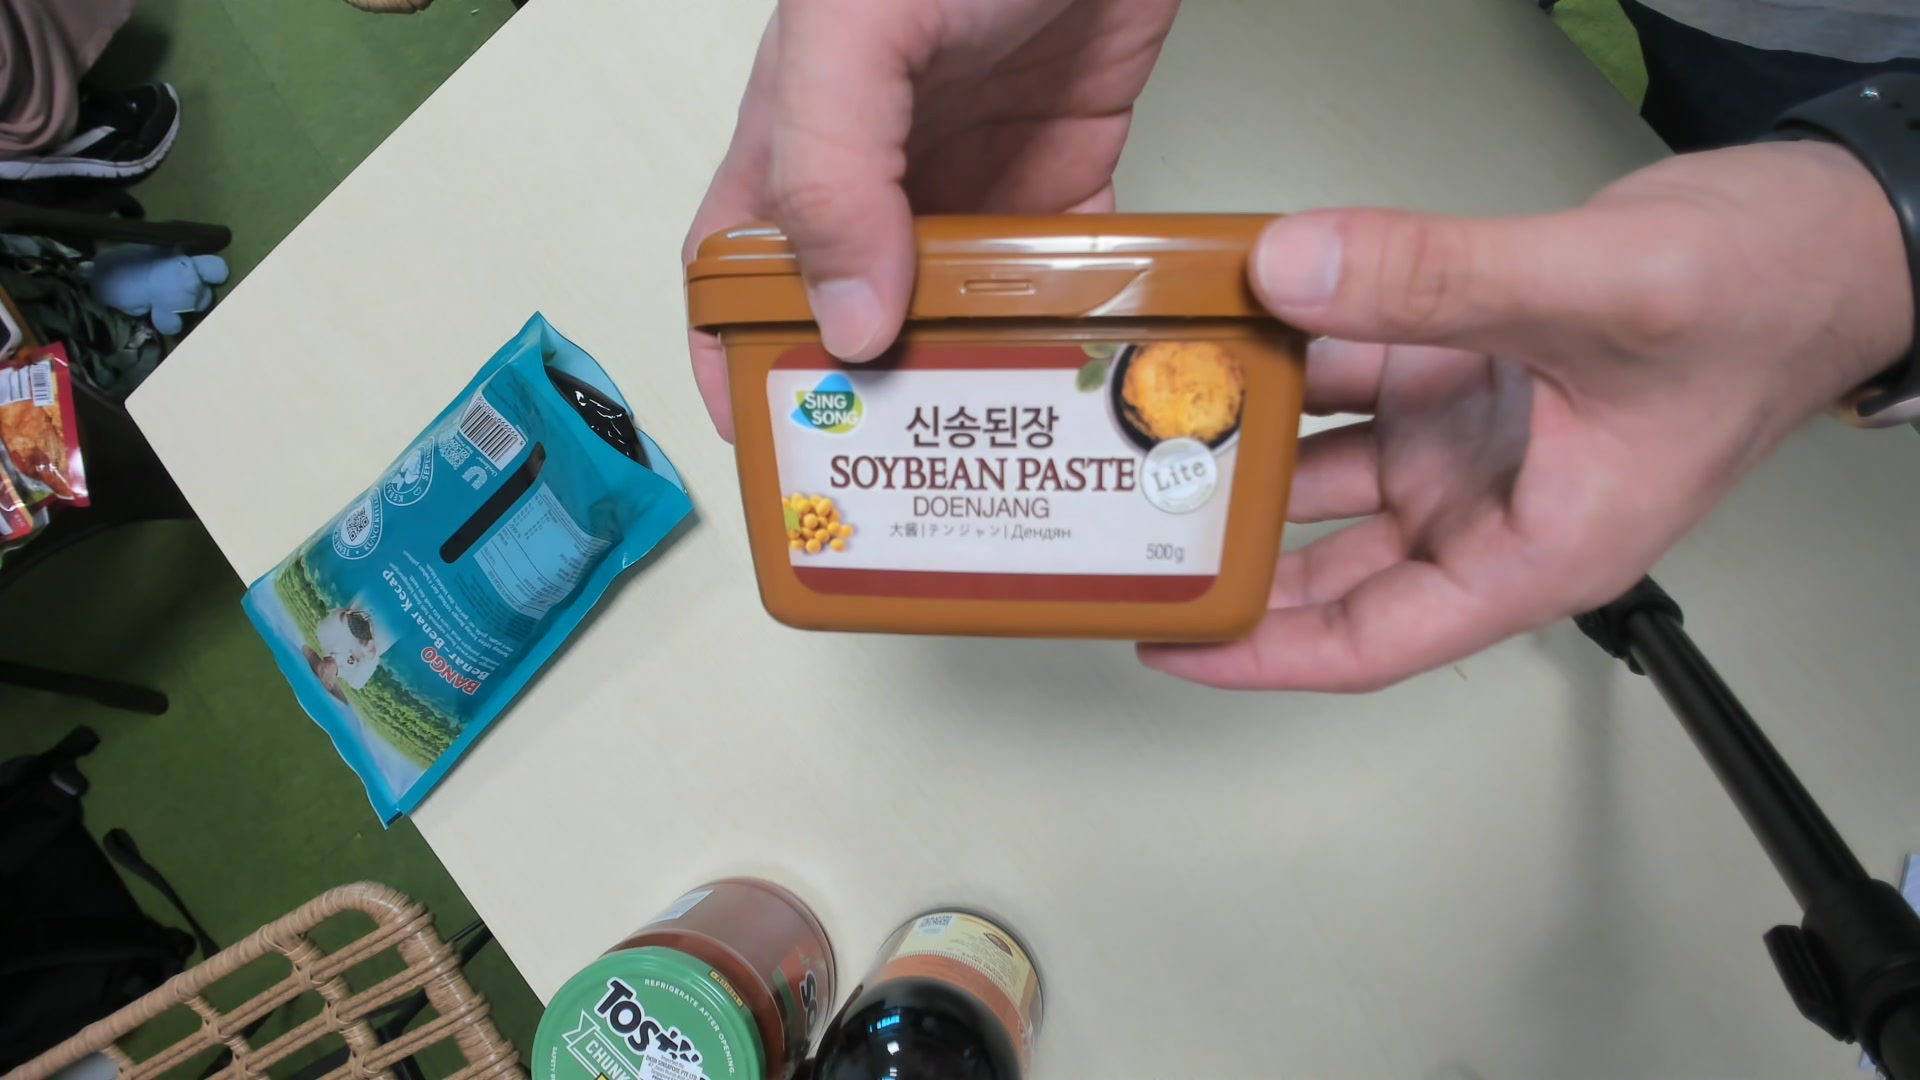OtherSauceDressing_500-599g_NonHalal_NonHealthy: (690, 219, 1311, 641)
